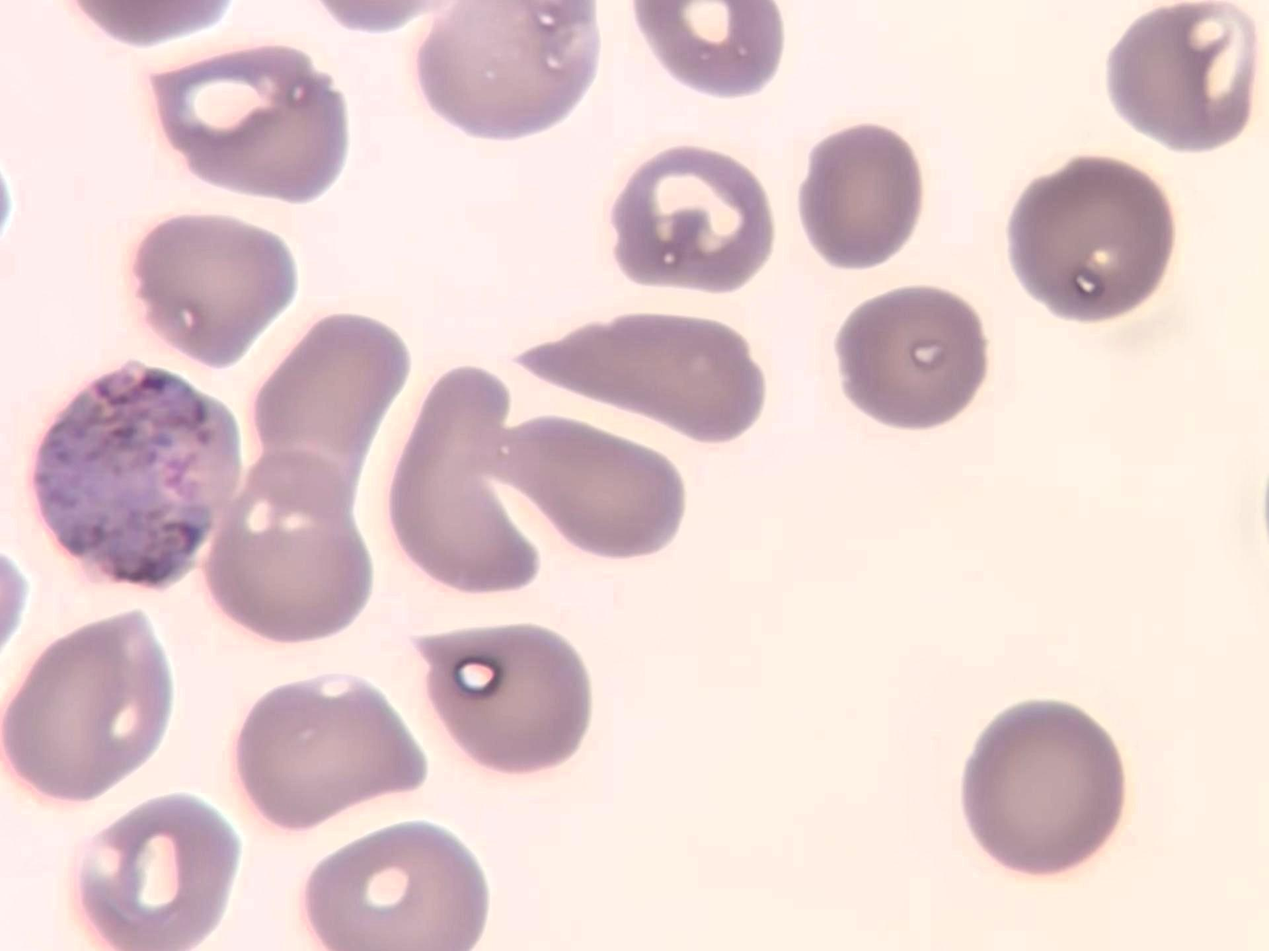Infected: (26, 366, 244, 593)
Uninfected: (516, 309, 758, 456), (154, 40, 357, 207), (388, 375, 536, 597), (480, 410, 687, 564), (956, 701, 1122, 883), (203, 459, 366, 643), (9, 609, 167, 797), (238, 675, 439, 822), (414, 613, 595, 775), (1009, 158, 1182, 323), (260, 311, 402, 509), (414, 0, 599, 137), (128, 210, 288, 368), (601, 151, 784, 289), (84, 787, 232, 951), (1102, 0, 1260, 151), (297, 825, 483, 951), (833, 285, 983, 440), (802, 120, 922, 264), (634, 0, 786, 92)
